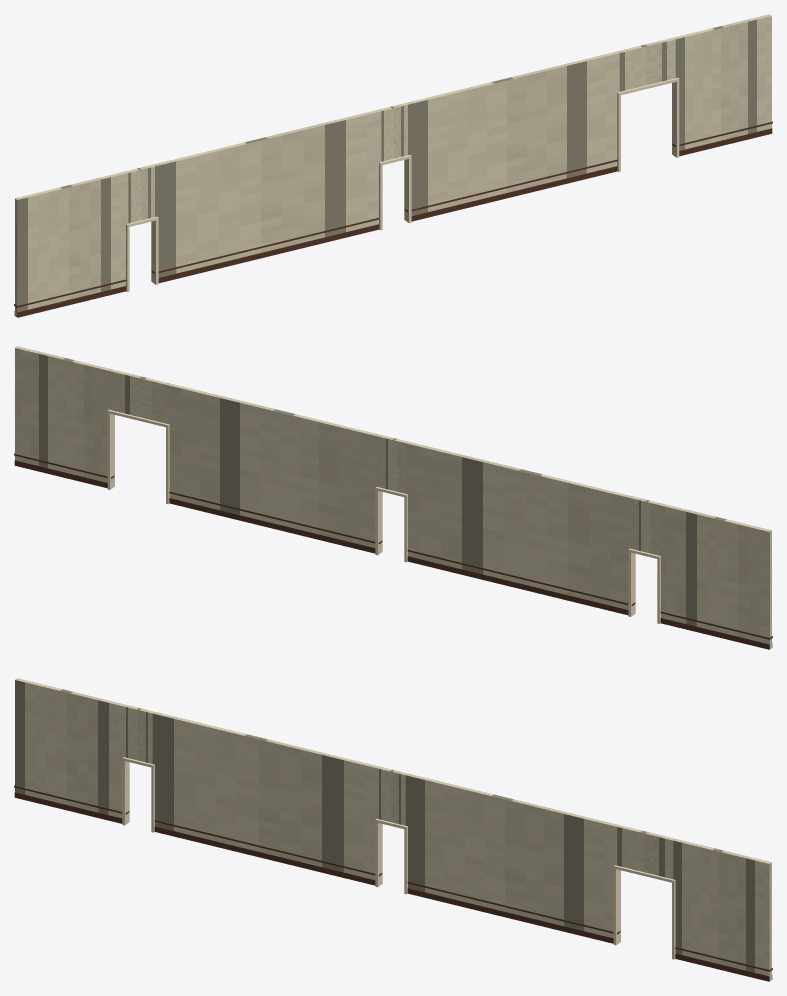
The model's file is mid.glb.
3 views of the same model, one above another, from view 1: azimuth 30°, elevation 25°; view 2: azimuth 150°, elevation 25°; view 3: azimuth 330°, elevation 25° (orthographic).
Parts seen in each view (by area): view 1: Box3, Box5, Box1, Box7, Box11, Box9, Box10, Box4, Box6, Box25, Box23, Box2 (+3 smaller); view 2: Box3, Box5, Box1, Box7, Box11, Box9, Box10, Box4, Box6, Box25, Box2, Box19 (+3 smaller); view 3: Box3, Box5, Box1, Box7, Box11, Box9, Box10, Box4, Box6, Box25, Box23, Box2 (+3 smaller).
Boxes of the visible parts, x1,y1,x2,y2 form: Box3: (153, 109, 381, 277); Box5: (406, 51, 619, 215); Box1: (15, 171, 128, 317); Box7: (674, 14, 771, 150); Box11: (617, 37, 675, 91); Box9: (126, 164, 154, 223); Box10: (379, 103, 407, 161); Box4: (158, 224, 379, 283); Box6: (411, 166, 617, 221); Box25: (411, 162, 617, 215); Box23: (164, 219, 378, 276); Box2: (14, 286, 126, 317); Box3: (405, 441, 633, 609); Box5: (167, 383, 380, 547); Box1: (658, 503, 771, 648); Box7: (15, 346, 112, 482); Box11: (111, 369, 169, 423); Box9: (632, 496, 660, 555); Box10: (379, 435, 407, 493); Box4: (407, 556, 628, 615); Box6: (169, 498, 375, 553); Box25: (169, 494, 375, 547); Box2: (660, 618, 772, 649); Box19: (107, 410, 114, 489); Box3: (152, 712, 380, 879); Box5: (405, 773, 619, 937); Box1: (15, 678, 127, 818); Box7: (673, 839, 771, 980); Box11: (617, 825, 675, 879); Box9: (126, 705, 154, 763); Box10: (379, 767, 407, 825); Box4: (154, 826, 375, 885); Box6: (407, 888, 613, 943); Box25: (408, 883, 613, 938); Box23: (155, 823, 375, 879); Box2: (14, 792, 122, 823).
Size of the model in its own units: 26.89 by 4 by 0.3.
Materials: 3 (1 with a texture image).
